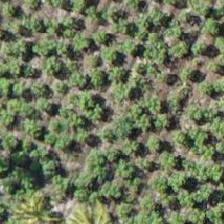coconut_tree: (0, 169, 81, 223)
